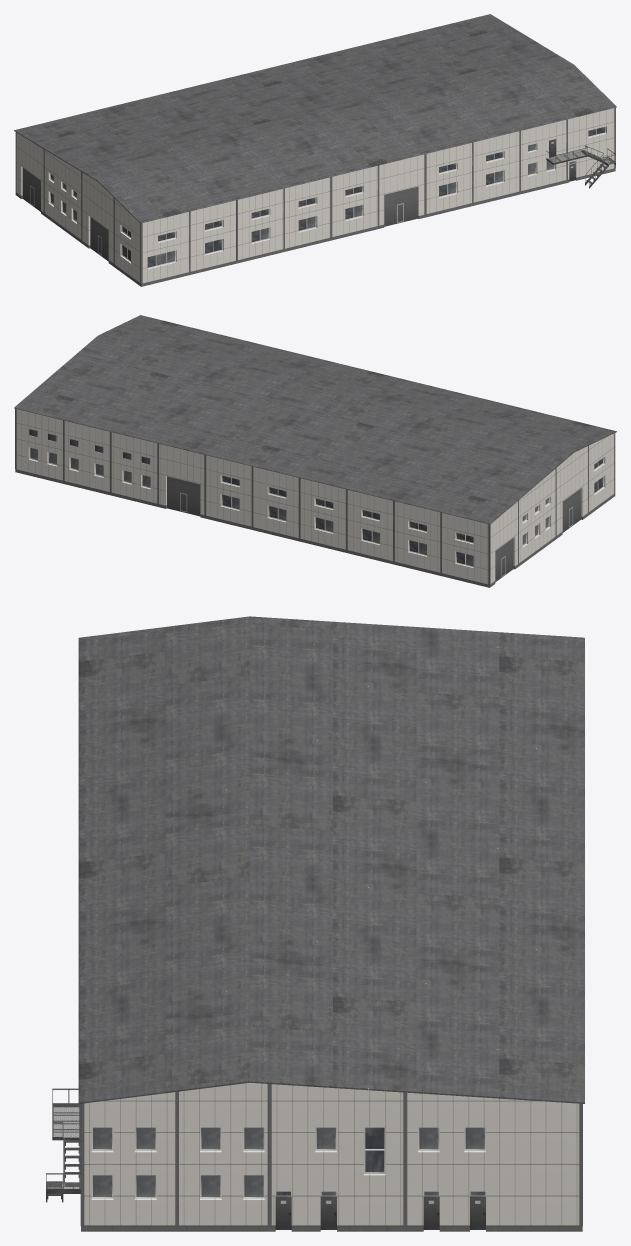
The model's file is plant-building42.glb.
3 views of the same model, one above another, from view 1: azimuth 30°, elevation 25°; view 2: azimuth 150°, elevation 25°; view 3: azimuth 270°, elevation 25° (orthographic). The views are drawn at different scales.
Parts seen in each view (by area): view 1: Object8934972; view 2: Object8934972; view 3: Object8934972.
Boxes of the visible parts, left/top/right/bottom form: Object8934972: left=14, top=14, right=616, bottom=286; Object8934972: left=14, top=315, right=616, bottom=587; Object8934972: left=46, top=616, right=584, bottom=1231.
Bounding box in the file's own units: 61.02 × 9.54 × 29.92.
1 material, 1 textured.
